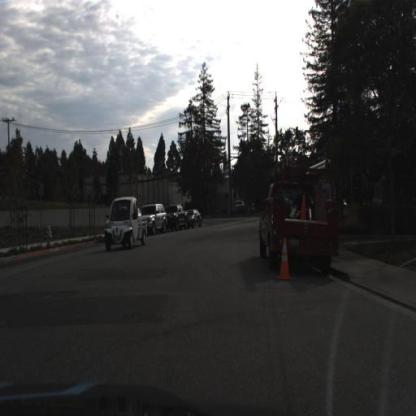car: (258, 152, 342, 273), (105, 197, 146, 252), (140, 199, 168, 236), (145, 201, 170, 237), (167, 200, 184, 232), (178, 208, 199, 233), (231, 196, 247, 216)
